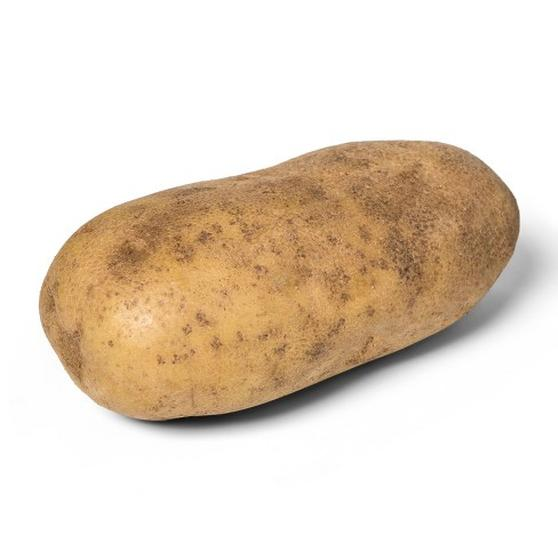potato: (47, 139, 533, 427)
